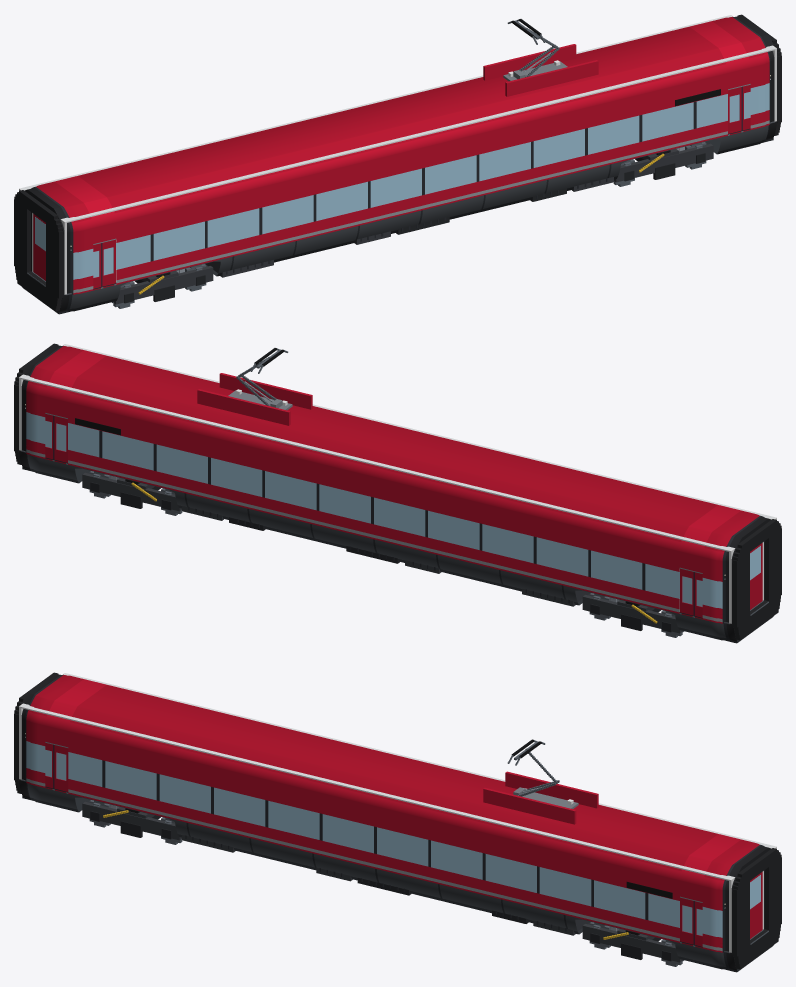
The model's file is frecciarossa_car.obj.
3 views of the same model, one above another, from view 1: azimuth 30°, elevation 25°; view 2: azimuth 150°, elevation 25°; view 3: azimuth 330°, elevation 25° (orthographic).
Visible parts, largest first — view 1: SHELL, SHELL_ceiling, SHELL_diaphragm, SHELL_pantograph, BOGEY_FRONT, BOGEY_REAR, FRAME, CONNECTING_DOOR_1_CG_CR_TOGGLE_TL_0.98_Z, EXTERNAL_DOOR_10_CG_DR2_TOGGLE_TL_-0.44_X, EXTERNAL_DOOR_5_CG_DR1_TOGGLE_TL_0.44_X, SHELL_end; view 2: SHELL, SHELL_ceiling, SHELL_diaphragm, SHELL_pantograph, BOGEY_FRONT, BOGEY_REAR, FRAME, CONNECTING_DOOR_1_CG_CR_TOGGLE_TL_0.98_Z, EXTERNAL_DOOR_13_CG_DL2_TOGGLE_TL_-0.44_X, EXTERNAL_DOOR_8_CG_DL1_TOGGLE_TL_0.44_X, SHELL_end; view 3: SHELL, SHELL_ceiling, SHELL_diaphragm, SHELL_pantograph, BOGEY_REAR, BOGEY_FRONT, FRAME, CONNECTING_DOOR_2_CG_CF_TOGGLE_TL_0.98_Z, EXTERNAL_DOOR_10_CG_DR2_TOGGLE_TL_-0.44_X, EXTERNAL_DOOR_5_CG_DR1_TOGGLE_TL_0.44_X, SHELL_end.
Part boxes in pixels (left/top/right/bottom): SHELL: left=22, top=15, right=777, bottom=314; SHELL_ceiling: left=21, top=15, right=774, bottom=222; SHELL_diaphragm: left=14, top=14, right=781, bottom=311; SHELL_pantograph: left=483, top=19, right=598, bottom=96; BOGEY_FRONT: left=614, top=143, right=713, bottom=182; BOGEY_REAR: left=113, top=266, right=213, bottom=304; FRAME: left=93, top=128, right=750, bottom=289; CONNECTING_DOOR_1_CG_CR_TOGGLE_TL_0.98_Z: left=33, top=214, right=45, bottom=280; EXTERNAL_DOOR_10_CG_DR2_TOGGLE_TL_-0.44_X: left=728, top=86, right=742, bottom=133; EXTERNAL_DOOR_5_CG_DR1_TOGGLE_TL_0.44_X: left=102, top=239, right=115, bottom=286; SHELL_end: left=19, top=15, right=776, bottom=294; SHELL: left=18, top=344, right=773, bottom=643; SHELL_ceiling: left=20, top=344, right=774, bottom=551; SHELL_diaphragm: left=14, top=343, right=781, bottom=640; SHELL_pantograph: left=197, top=348, right=312, bottom=425; BOGEY_FRONT: left=82, top=472, right=181, bottom=511; BOGEY_REAR: left=582, top=595, right=682, bottom=633; FRAME: left=45, top=457, right=702, bottom=618; CONNECTING_DOOR_1_CG_CR_TOGGLE_TL_0.98_Z: left=750, top=543, right=762, bottom=609; EXTERNAL_DOOR_13_CG_DL2_TOGGLE_TL_-0.44_X: left=53, top=415, right=67, bottom=462; EXTERNAL_DOOR_8_CG_DL1_TOGGLE_TL_0.44_X: left=680, top=568, right=693, bottom=615; SHELL_end: left=19, top=344, right=776, bottom=623; SHELL: left=18, top=673, right=773, bottom=972; SHELL_ceiling: left=21, top=673, right=774, bottom=880; SHELL_diaphragm: left=14, top=672, right=781, bottom=969; SHELL_pantograph: left=483, top=739, right=598, bottom=824; BOGEY_REAR: left=82, top=801, right=181, bottom=840; BOGEY_FRONT: left=582, top=924, right=682, bottom=962; FRAME: left=45, top=786, right=702, bottom=947; CONNECTING_DOOR_2_CG_CF_TOGGLE_TL_0.98_Z: left=750, top=872, right=762, bottom=938; EXTERNAL_DOOR_10_CG_DR2_TOGGLE_TL_-0.44_X: left=680, top=897, right=694, bottom=944; EXTERNAL_DOOR_5_CG_DR1_TOGGLE_TL_0.44_X: left=54, top=745, right=68, bottom=791; SHELL_end: left=19, top=673, right=776, bottom=952.
Size of the model in its own units: 25.32 by 5.68 by 2.94.
1 material, 1 textured.
